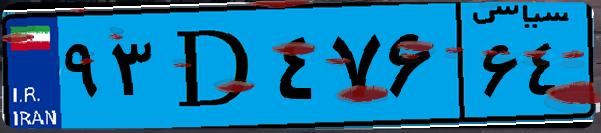3: (110, 28, 158, 98)
4: (270, 28, 330, 110), (525, 38, 570, 115)
6: (385, 28, 445, 110), (475, 38, 525, 113)
7: (330, 28, 385, 110)
9: (57, 26, 110, 100)
D: (158, 12, 270, 120)
